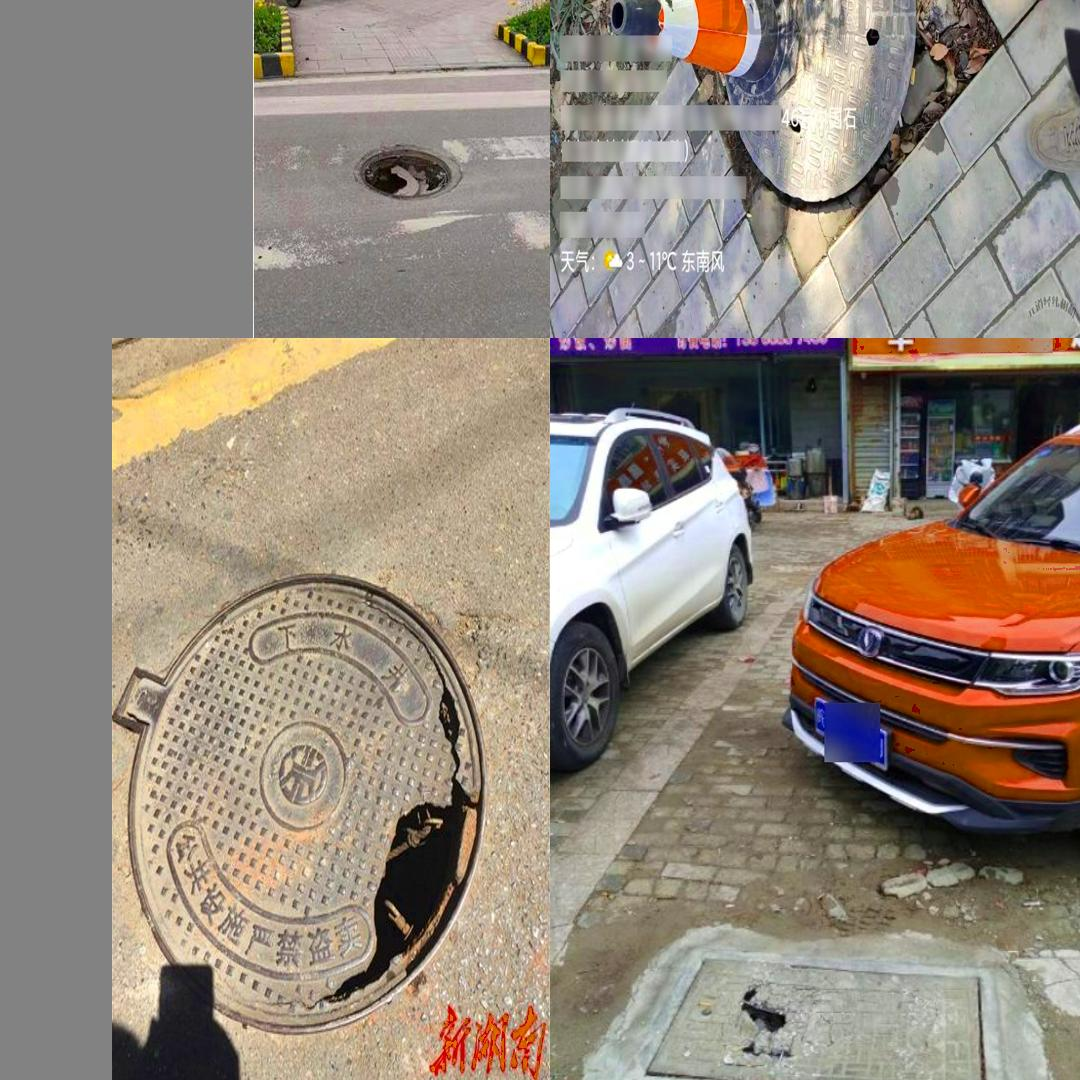broke: (119, 547, 486, 1029), (631, 948, 1004, 1080), (715, 0, 917, 202), (346, 125, 472, 217)
